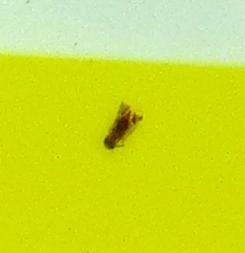Hemiptera: (100, 100, 145, 153)
